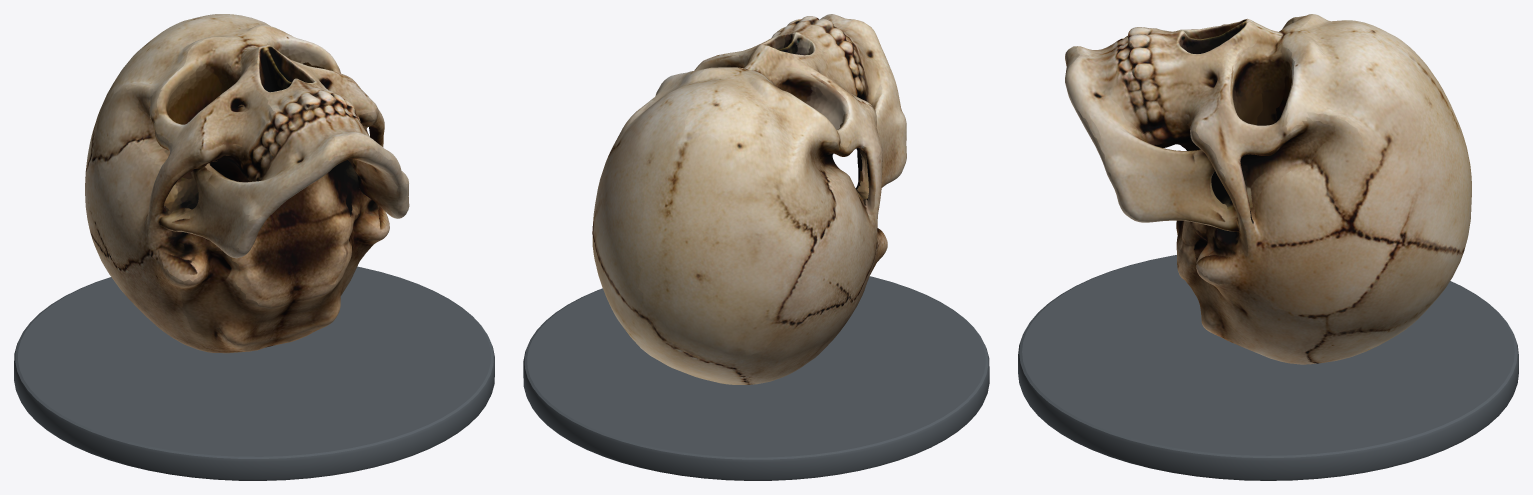
Rendered from death-skull-ee970e145c38.glb.
3 views of the same model, side by side, from view 1: azimuth 30°, elevation 25°; view 2: azimuth 150°, elevation 25°; view 3: azimuth 270°, elevation 25° (orthographic). The views are drawn at different scales.
Visible parts, largest first — view 1: death-skull_bone, death-skull_round_base; view 2: death-skull_bone, death-skull_round_base; view 3: death-skull_bone, death-skull_round_base.
Part boxes in pixels (box(x1,y1,x2,y2)): death-skull_bone: box(85, 14, 409, 353); death-skull_round_base: box(14, 266, 494, 480); death-skull_bone: box(592, 14, 906, 384); death-skull_round_base: box(523, 276, 989, 480); death-skull_bone: box(1065, 14, 1471, 364); death-skull_round_base: box(1018, 255, 1518, 480).
Bounding box in the file's own units: 1 × 0.7839 × 1.
Materials: 2 (1 with a texture image).
